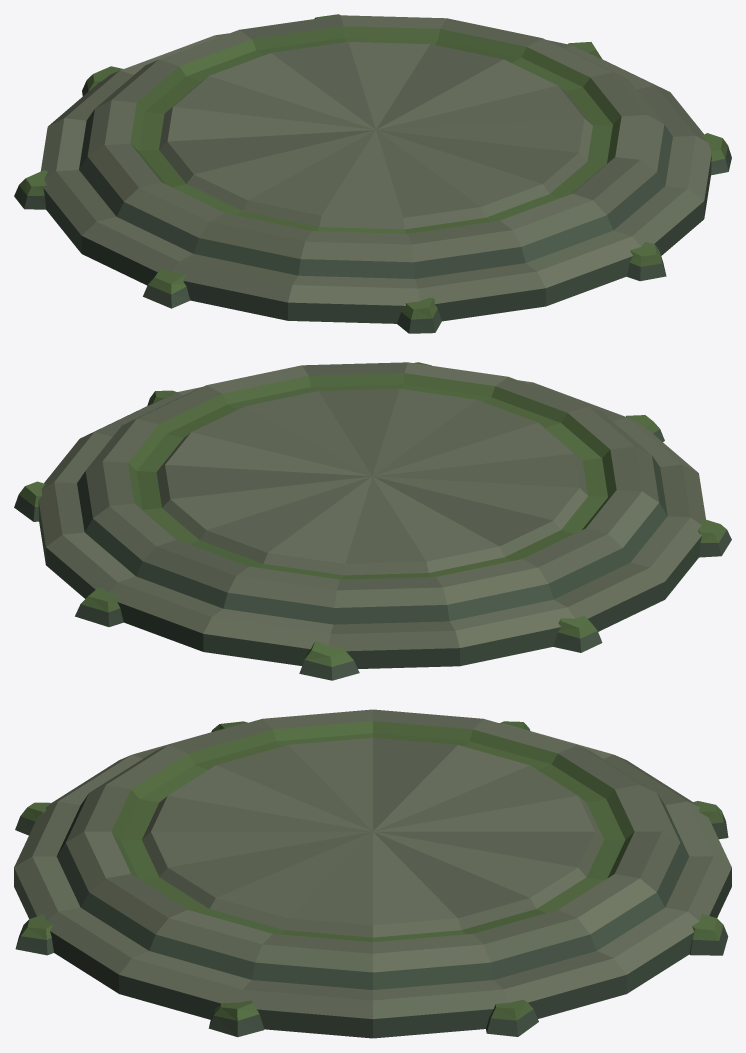
The picture shows the model from 3 angles, top to bottom: view 1: azimuth 30°, elevation 25°; view 2: azimuth 150°, elevation 25°; view 3: azimuth 270°, elevation 25°; orthographic projection. The views are drawn at different scales.
Parts seen in each view (by area): view 1: forest-station; view 2: forest-station; view 3: forest-station.
Boxes of the visible parts, x1,y1,x2,y2 form: forest-station: [14, 14, 731, 333]; forest-station: [14, 362, 731, 680]; forest-station: [14, 709, 731, 1038].
Size of the model in its own units: 2.36 by 0.2 by 2.36.
